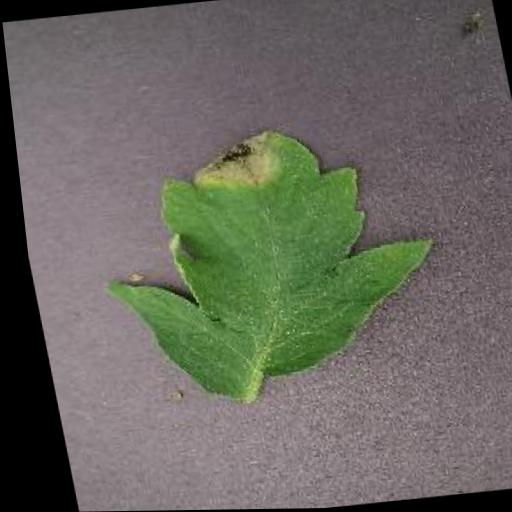Late Blight: (67, 114, 453, 408)
